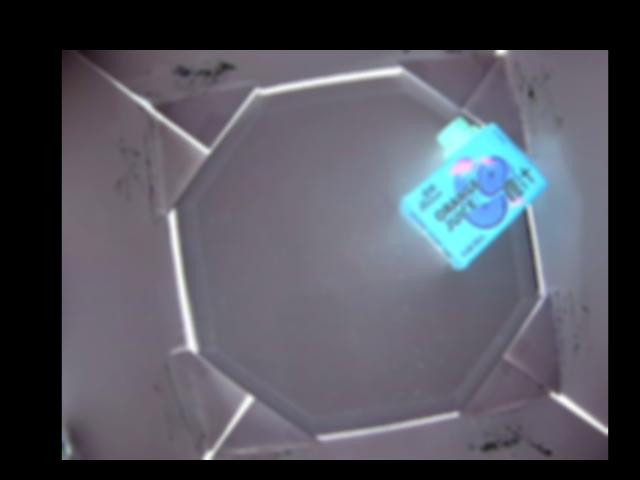Bottle: (395, 114, 549, 272)
